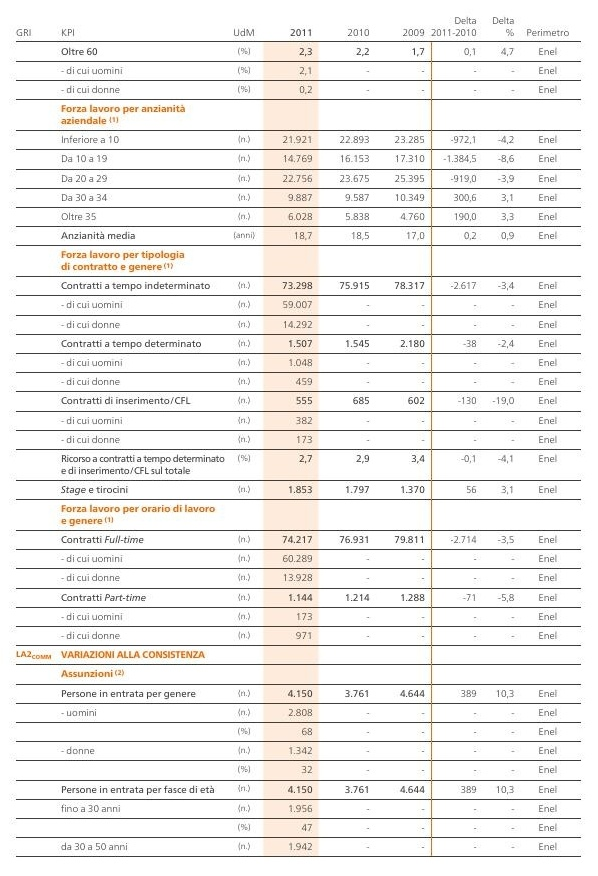table: (0, 0, 598, 876)
